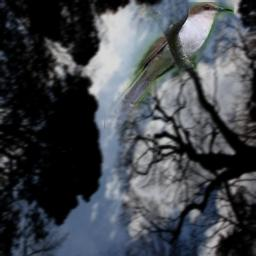Cuckoo: (104, 2, 234, 134)
